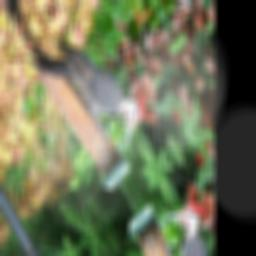Woodpecker: (22, 0, 156, 182)
